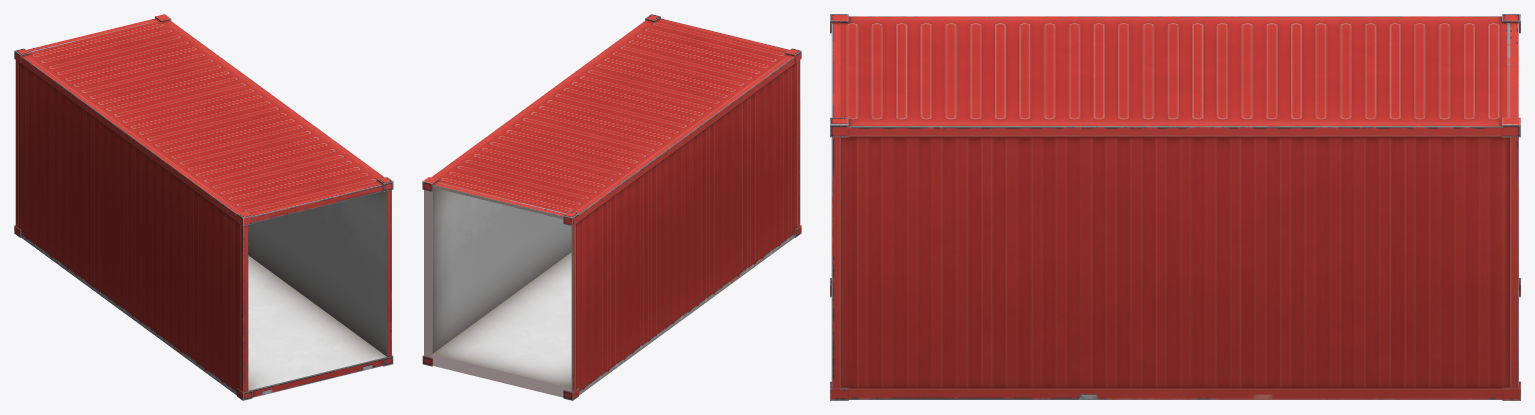
The model's file is open container.fbx.
3 views of the same model, side by side, from view 1: azimuth 30°, elevation 25°; view 2: azimuth 150°, elevation 25°; view 3: azimuth 270°, elevation 25° (orthographic). The views are drawn at different scales.
Visible parts, largest first — view 1: Container open; view 2: Container open; view 3: Container open.
Part boxes in pixels (<box>): Container open: <box>14,14,393,400</box>; Container open: <box>422,14,801,400</box>; Container open: <box>830,14,1520,400</box>.
Size of the model in its own units: 238 by 276 by 626.
1 material, 1 textured.
